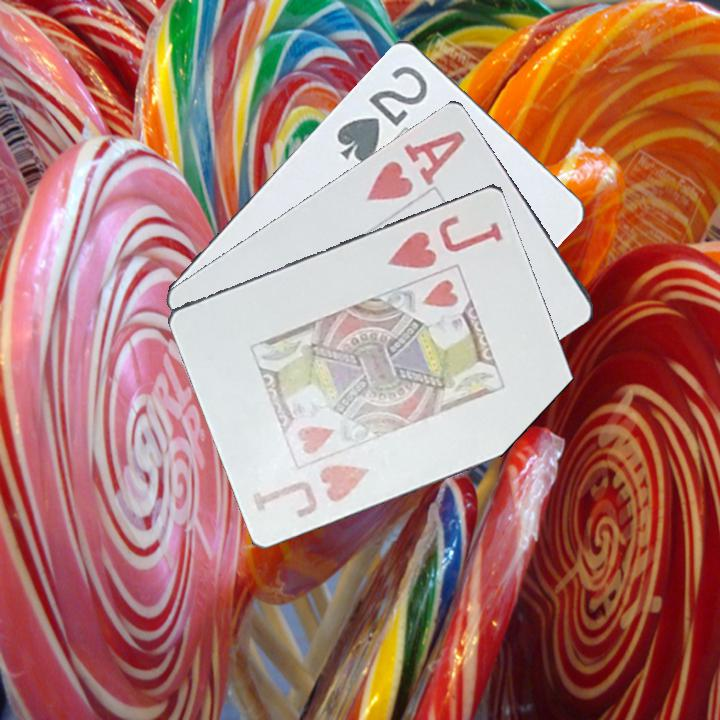2s: (332, 61, 431, 165)
Ah: (362, 126, 468, 204)
Jh: (384, 211, 506, 272), (249, 460, 373, 520)
